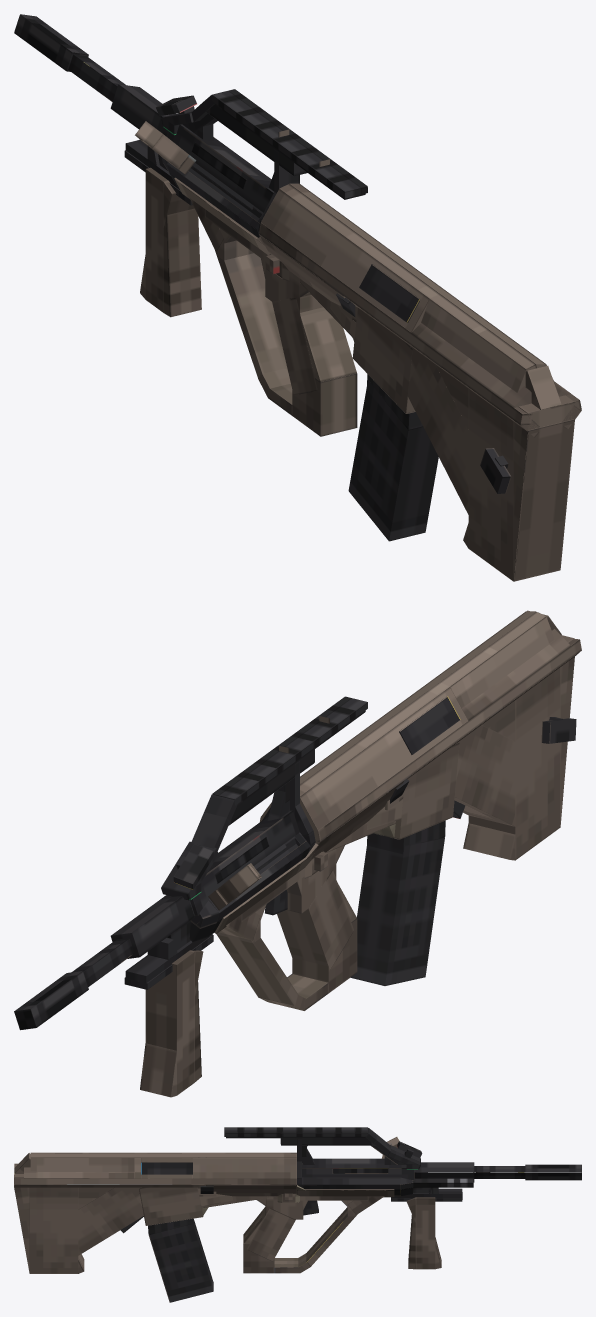
The model's file is aug.obj.
3 views of the same model, one above another, from view 1: azimuth 30°, elevation 25°; view 2: azimuth 150°, elevation 25°; view 3: azimuth 270°, elevation 25° (orthographic). The views are drawn at different scales.
Visible parts, largest first — view 1: gun, magazine, aug_grip, aug_upperrail, action; view 2: gun, magazine, aug_upperrail, aug_grip, action; view 3: gun, magazine, aug_upperrail, aug_grip, action.
Boxes of the visible parts, left/top/right/bottom form: gun: left=14, top=14, right=581, bottom=581; magazine: left=348, top=374, right=438, bottom=541; aug_grip: left=124, top=140, right=201, bottom=317; aug_upperrail: left=156, top=89, right=367, bottom=199; action: left=135, top=121, right=196, bottom=174; gun: left=14, top=610, right=581, bottom=1030; magazine: left=350, top=820, right=445, bottom=985; aug_upperrail: left=161, top=696, right=367, bottom=900; aug_grip: left=124, top=934, right=213, bottom=1097; action: left=208, top=863, right=261, bottom=910; gun: left=14, top=1152, right=581, bottom=1273; magazine: left=148, top=1218, right=213, bottom=1302; aug_upperrail: left=224, top=1127, right=422, bottom=1169; aug_grip: left=391, top=1187, right=462, bottom=1269; action: left=141, top=1137, right=399, bottom=1174.
Bounding box in the file's own units: 0.5566 × 1.81 × 5.47.
